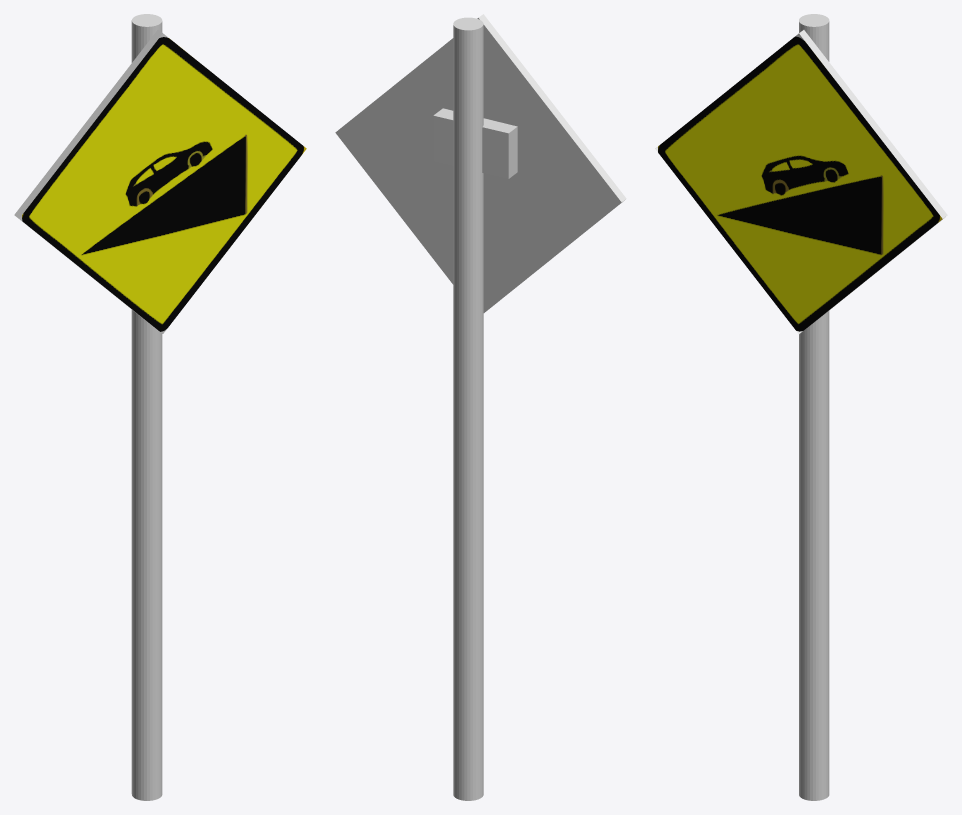
File: PeringJalanNaikfbx.fbx
The picture shows the model from 3 angles, left to right: view 1: azimuth 30°, elevation 25°; view 2: azimuth 150°, elevation 25°; view 3: azimuth 330°, elevation 25°; orthographic projection.
Parts seen in each view (by area): view 1: Cube.002, Cylinder.002; view 2: Cube.002, Cylinder.002, Cube.001; view 3: Cube.002, Cylinder.002.
Part boxes in pixels (x1,y1,x2,y2): Cube.002: (14, 30, 306, 333); Cylinder.002: (131, 14, 162, 800); Cube.002: (335, 14, 626, 312); Cylinder.002: (453, 17, 483, 800); Cube.001: (433, 108, 517, 178); Cube.002: (655, 30, 947, 333); Cylinder.002: (799, 14, 829, 800).
Size of the model in its own units: 283 by 727 by 39.46.
Materials: 2 (1 with a texture image).
